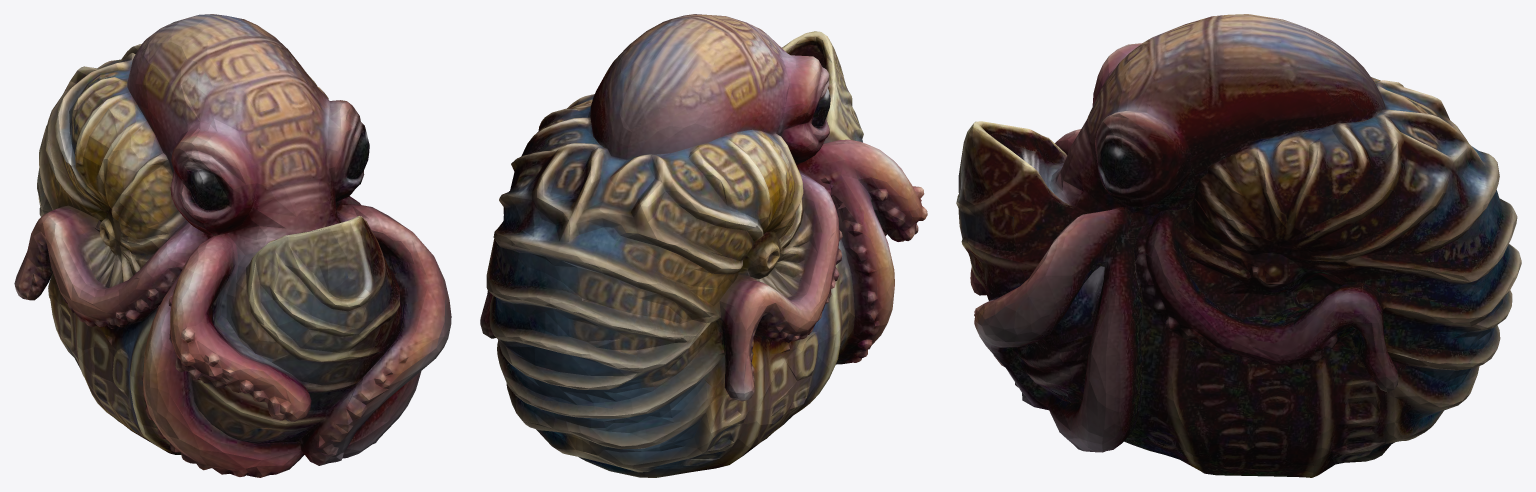
File: krakenWhelp.glb
3 views of the same model, side by side, from view 1: azimuth 30°, elevation 25°; view 2: azimuth 150°, elevation 25°; view 3: azimuth 270°, elevation 25° (orthographic). The views are drawn at different scales.
Parts seen in each view (by area): view 1: world; view 2: world; view 3: world.
Part boxes in pixels (x1,y1,x2,y2): world: (14, 14, 451, 477); world: (480, 14, 927, 477); world: (956, 14, 1521, 477).
Bounding box in the file's own units: 0.517 × 0.7015 × 0.8491.
Materials: 1 (1 with a texture image).
